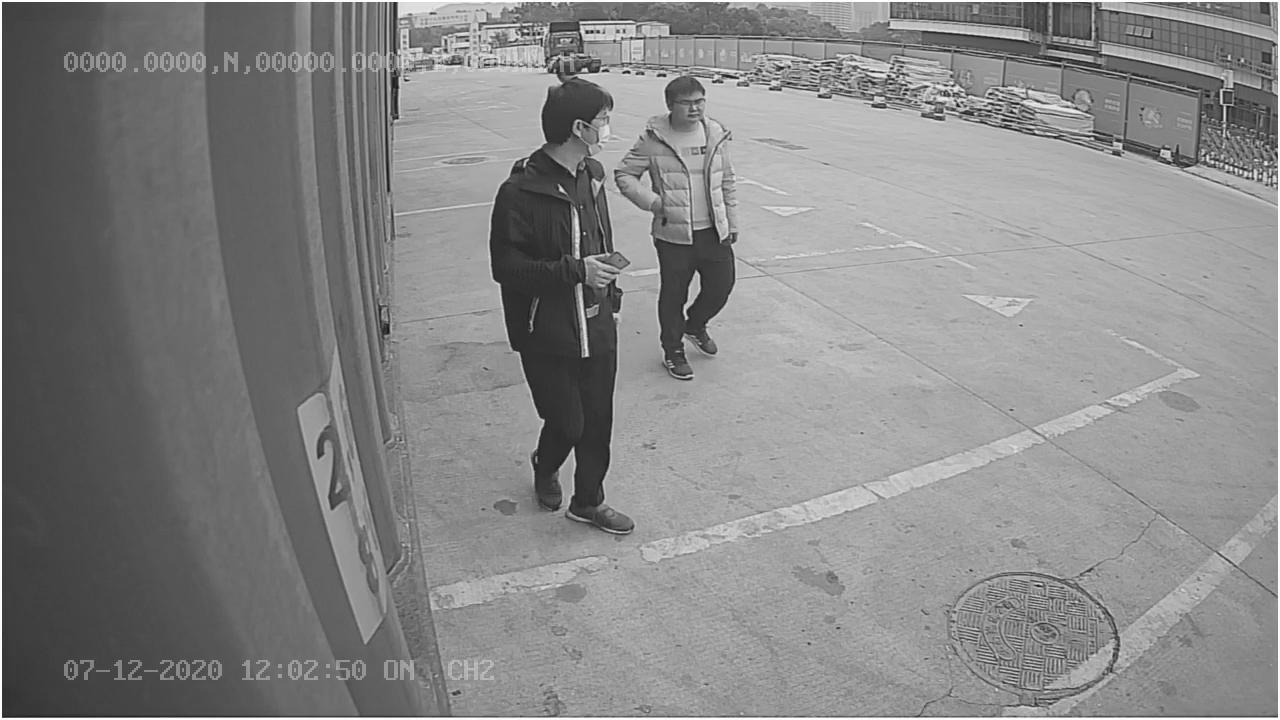person: (486, 80, 638, 536)
